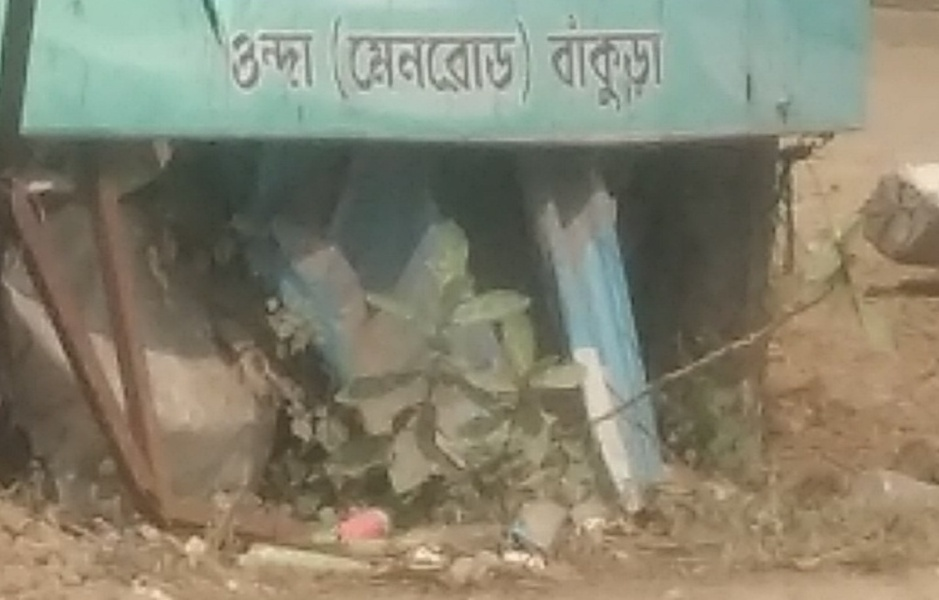text: (545, 12, 560, 117), (561, 12, 576, 117), (577, 12, 592, 117), (593, 12, 608, 117), (609, 12, 624, 117), (625, 12, 640, 117), (641, 12, 656, 117), (657, 12, 671, 117), (337, 14, 352, 109), (353, 14, 368, 109), (369, 14, 384, 109), (385, 14, 400, 109), (401, 14, 416, 109), (417, 14, 432, 109), (433, 14, 448, 109), (449, 14, 464, 109), (465, 14, 480, 109), (481, 14, 496, 109), (497, 14, 512, 109), (513, 14, 528, 109), (529, 14, 543, 109), (241, 22, 256, 100), (257, 22, 272, 100), (273, 22, 288, 100), (289, 22, 304, 100), (305, 22, 320, 100), (325, 14, 336, 109), (228, 22, 240, 100), (540, 12, 544, 117), (321, 22, 322, 100)
